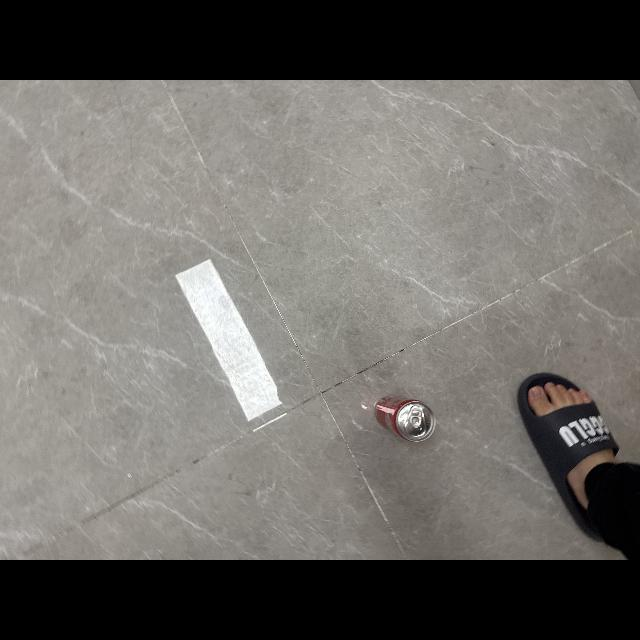Cola: (371, 391, 439, 447)
